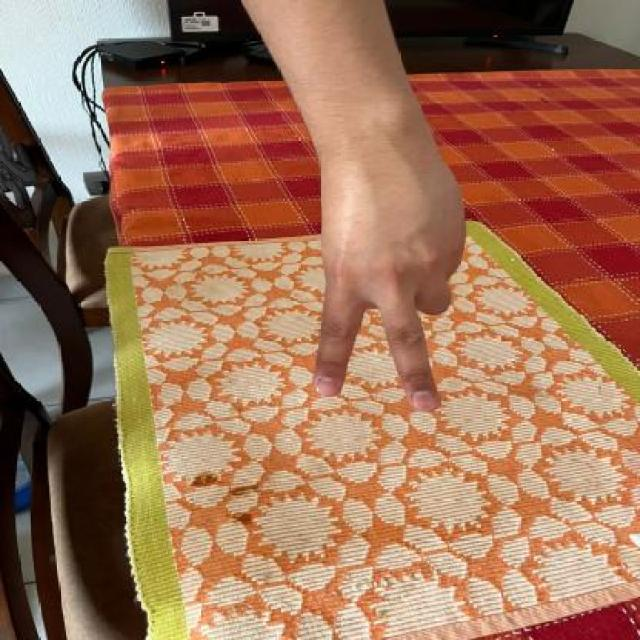N: (304, 126, 473, 420)
